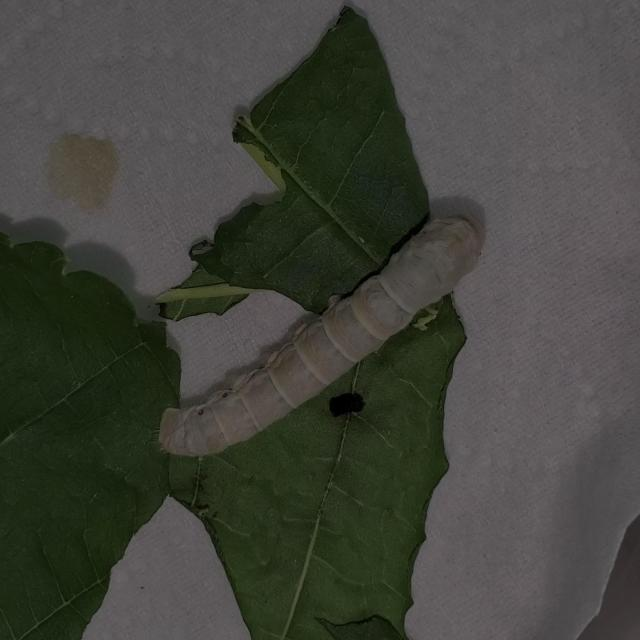Healthy: (147, 202, 491, 461)
